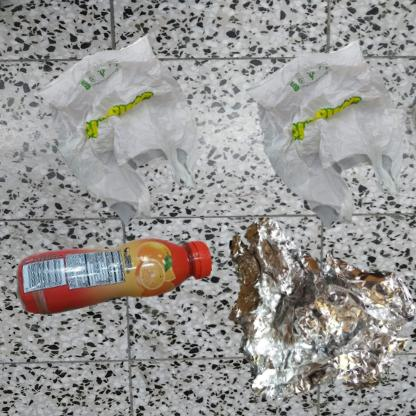aluminio: (213, 213, 416, 416)
bolsa: (10, 10, 240, 249), (213, 10, 416, 259)
botella: (10, 213, 233, 350)
